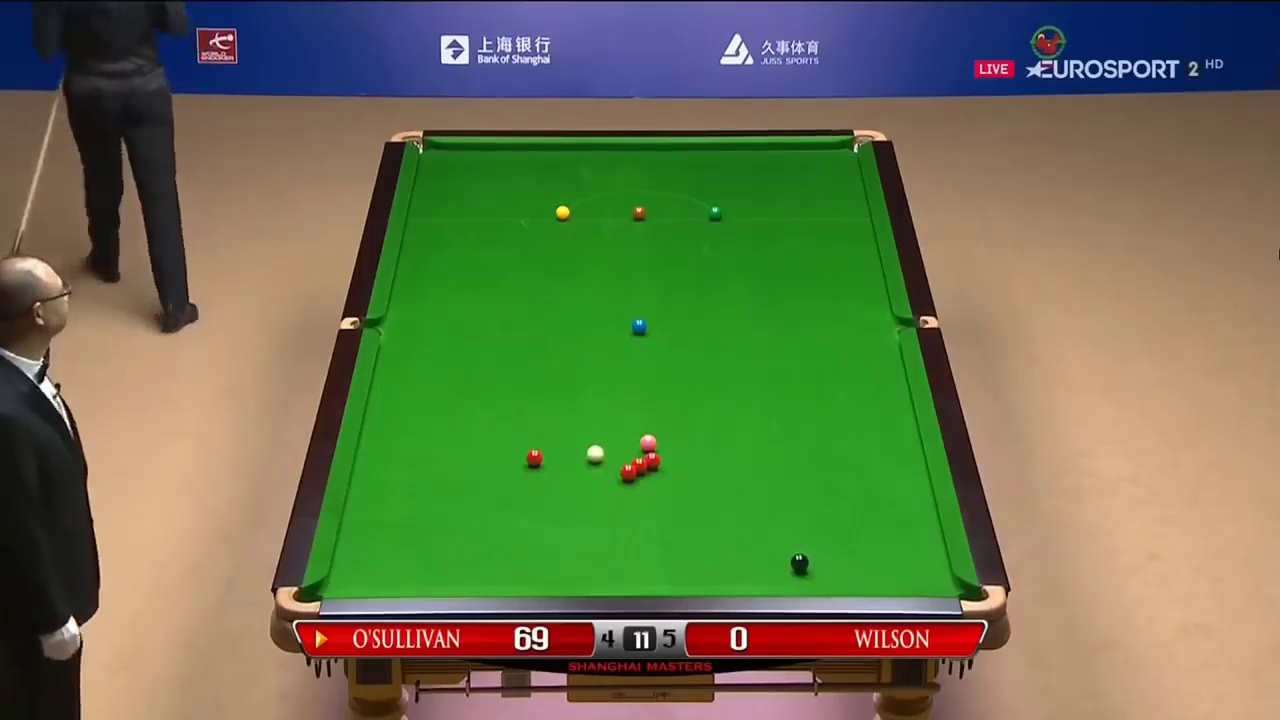ball: (629, 316, 648, 336), (585, 443, 604, 463), (639, 434, 657, 452), (524, 448, 541, 464), (555, 203, 570, 220), (791, 554, 806, 570), (631, 204, 645, 220), (707, 205, 720, 219)
